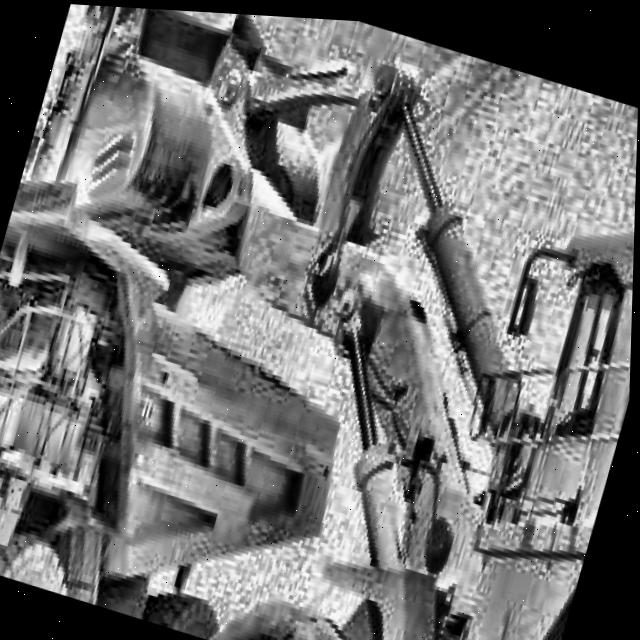buldozerpayloadergrader: (0, 0, 640, 640)
dump_truck: (0, 151, 422, 640)
